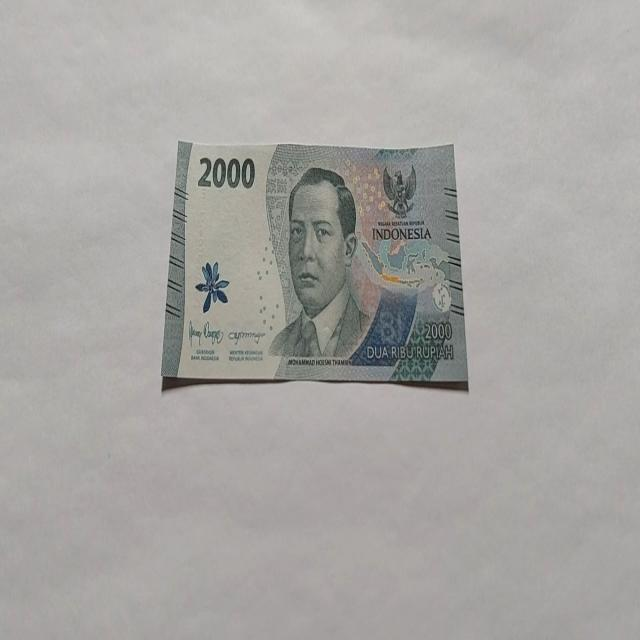dua ribu rupiah: (160, 138, 470, 392), (268, 164, 370, 366)
